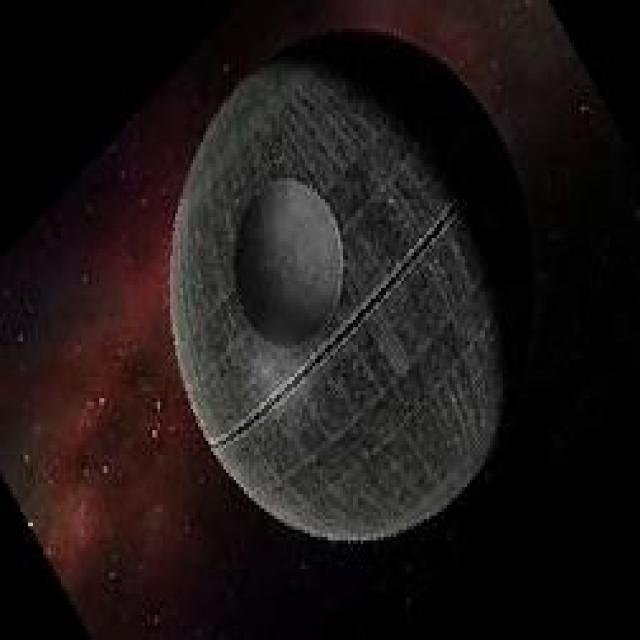Death Star: (162, 46, 516, 548)
